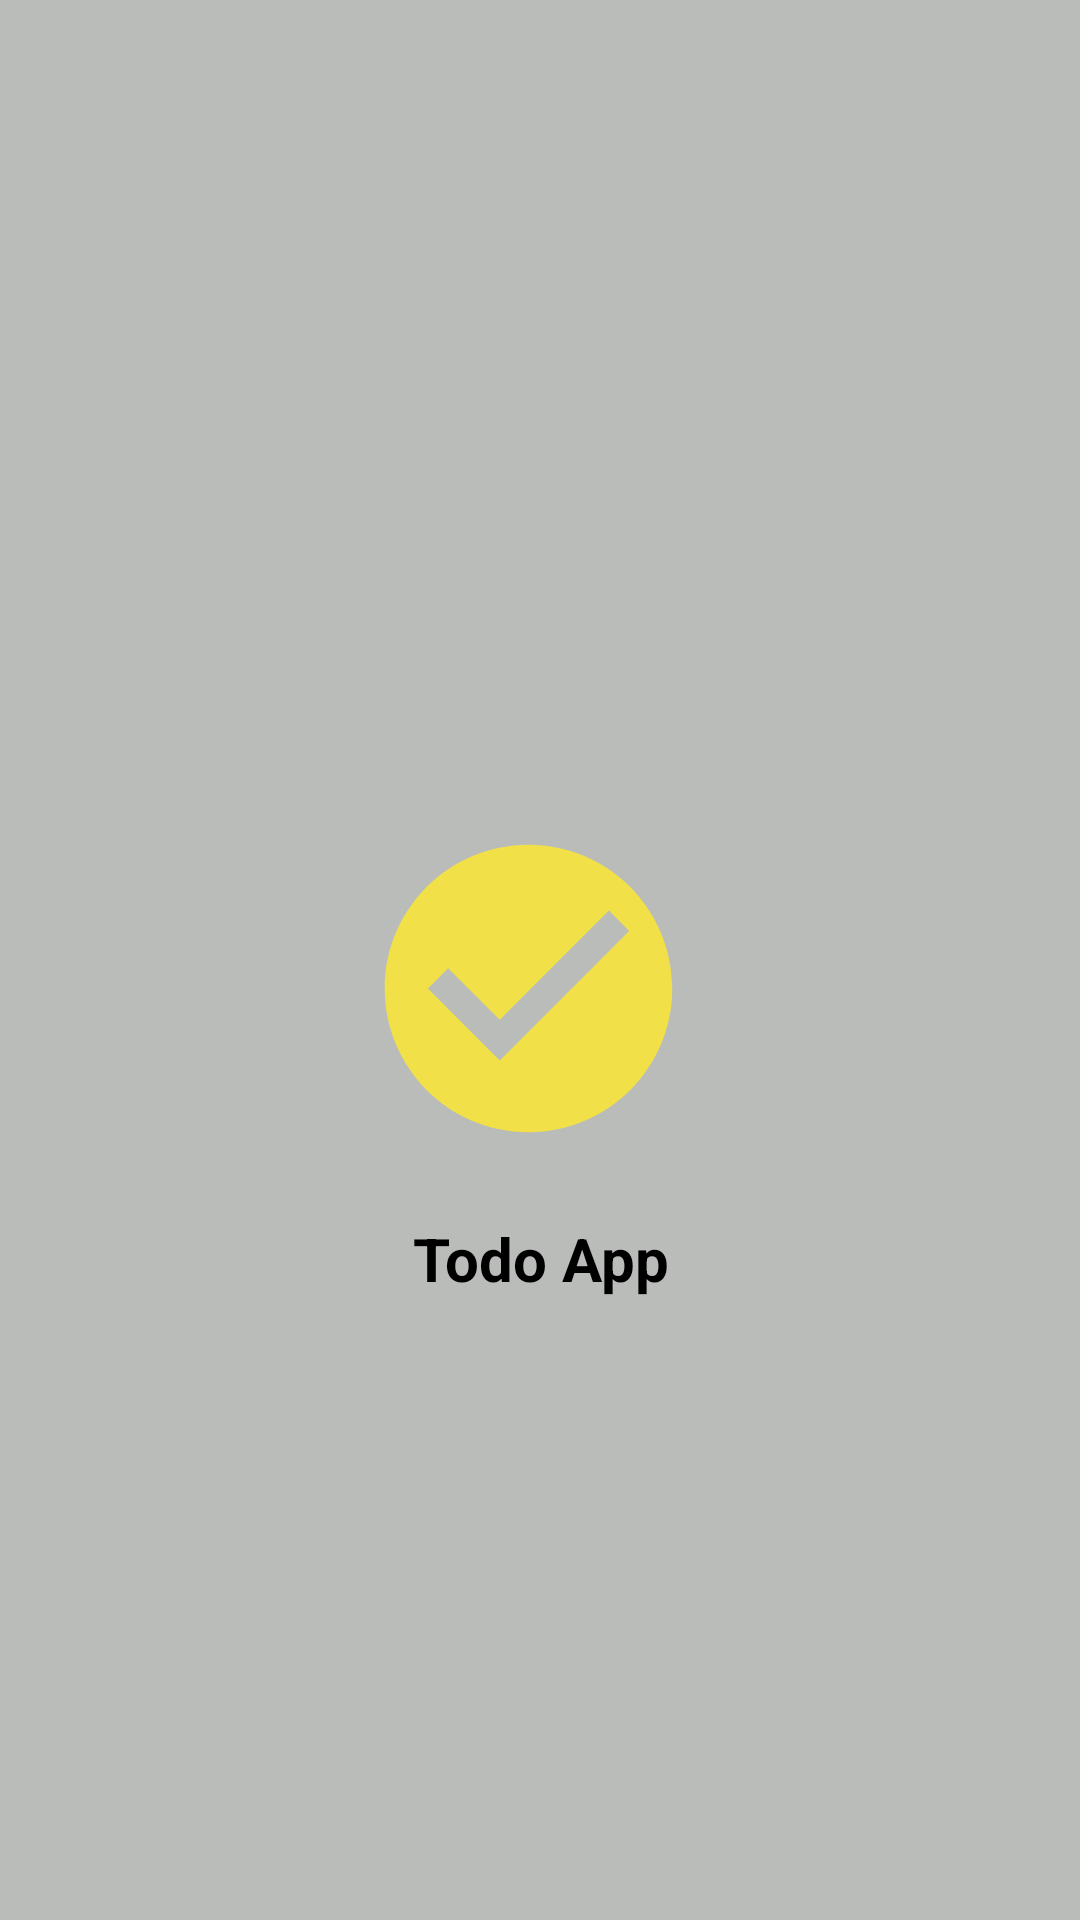

Icon click points for this 1080 x 1920 phone screenshot, format point (x, y):
check circle: point (528, 988)
